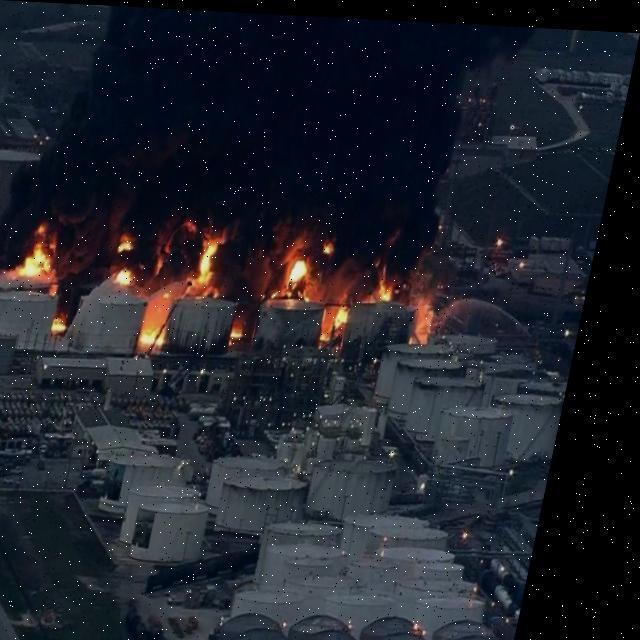Fire: (190, 212, 242, 296), (112, 224, 160, 298), (20, 223, 74, 284), (278, 244, 322, 296), (328, 290, 369, 342), (139, 306, 180, 354), (62, 286, 88, 335), (0, 258, 13, 348), (236, 311, 263, 345), (382, 266, 408, 300)
